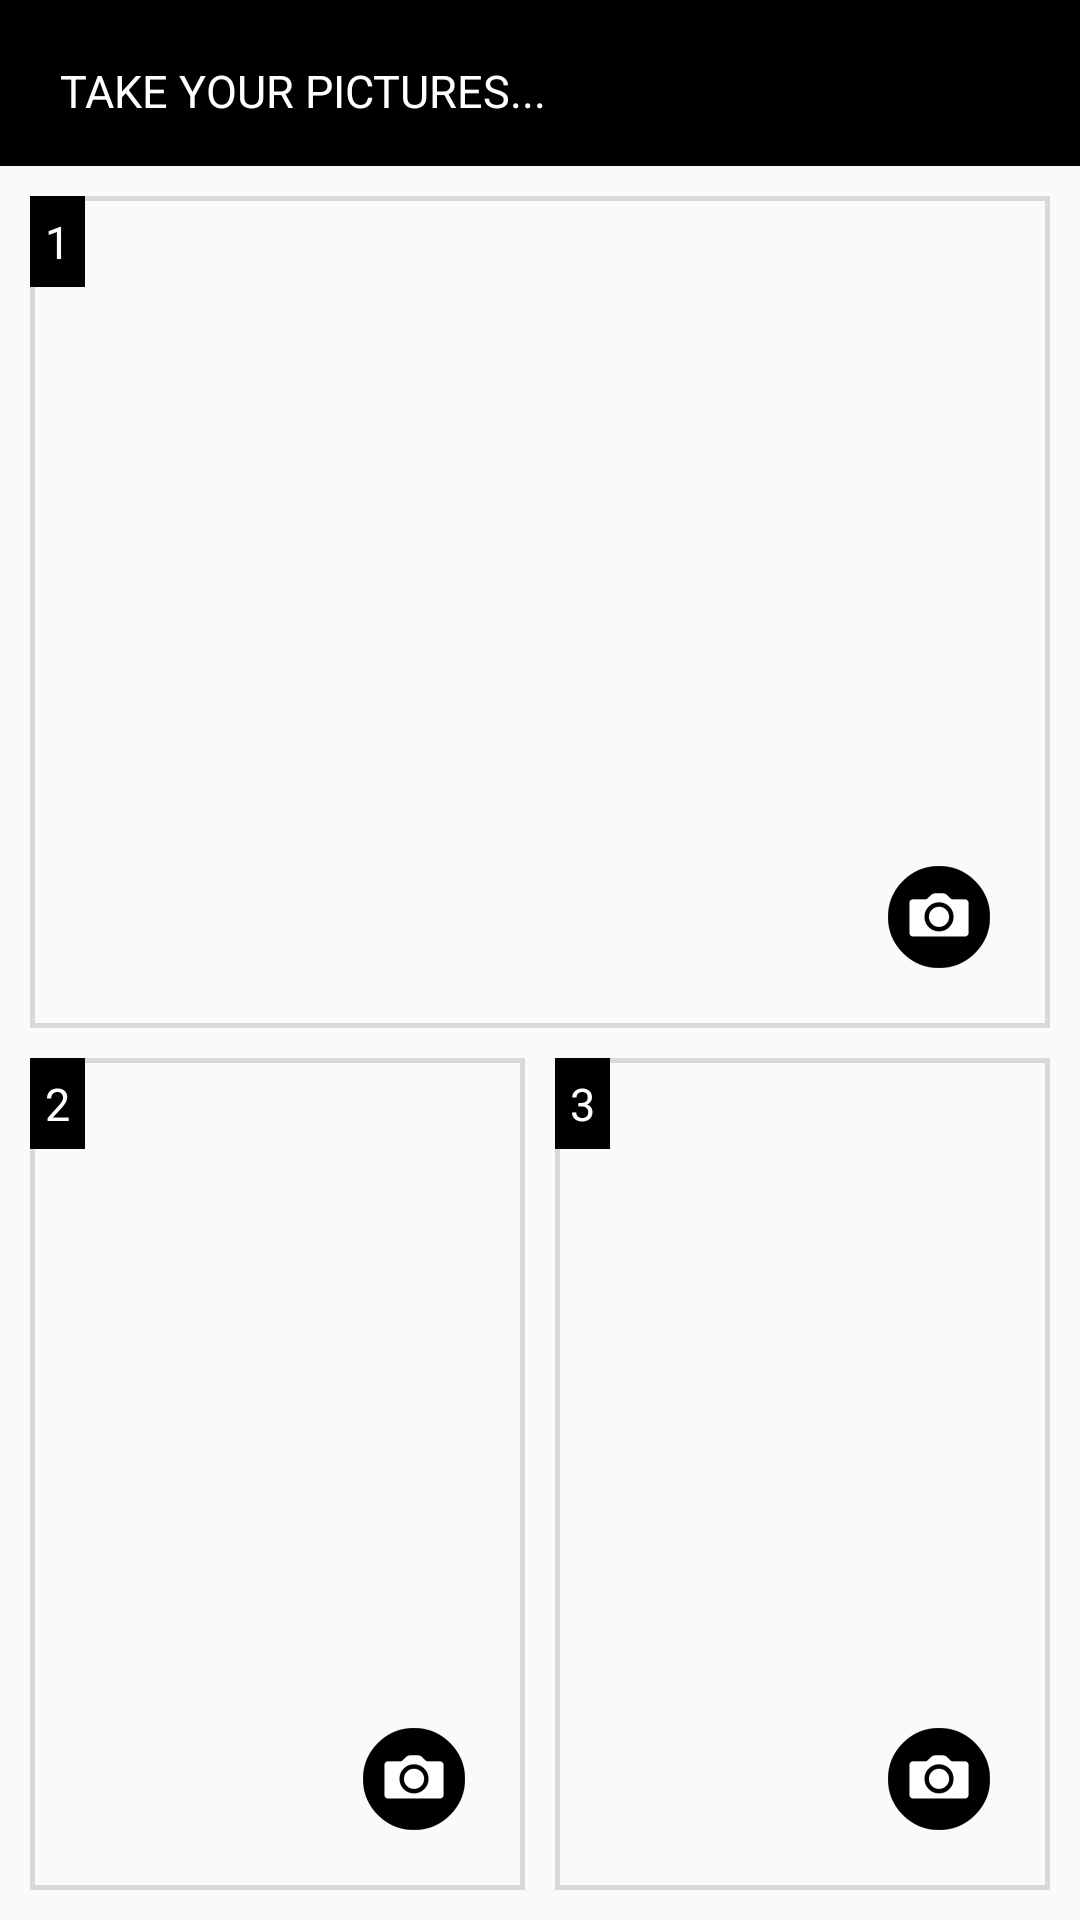

Icons on this 1080 × 1920 Android screen, each with its box as (x1, y1, x2, y2):
camera: (888, 866, 990, 968), (363, 1728, 465, 1830), (888, 1728, 990, 1830)
